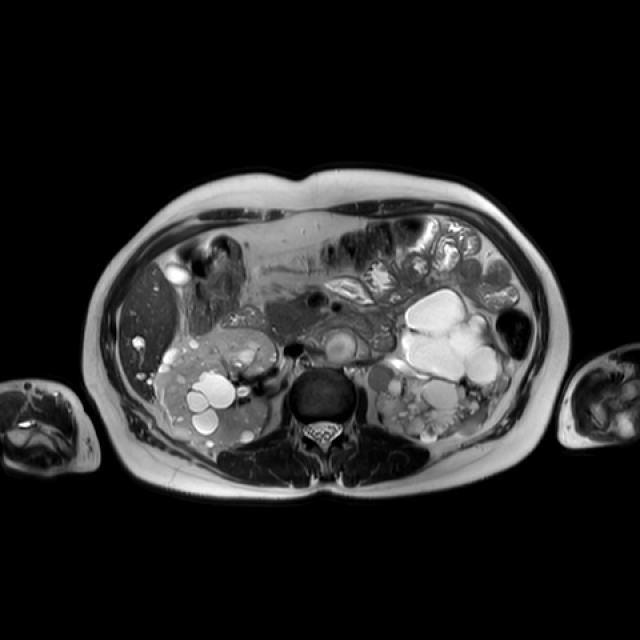sag: (159, 326, 278, 449)
sol: (372, 289, 509, 436)
